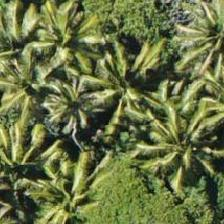coconut_tree: (73, 22, 163, 112), (15, 39, 105, 129), (137, 83, 223, 173), (0, 118, 56, 208), (0, 0, 52, 74), (177, 0, 223, 74)
